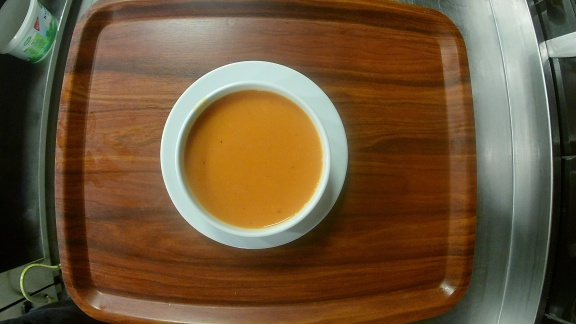domatescorba: (158, 60, 349, 251)
